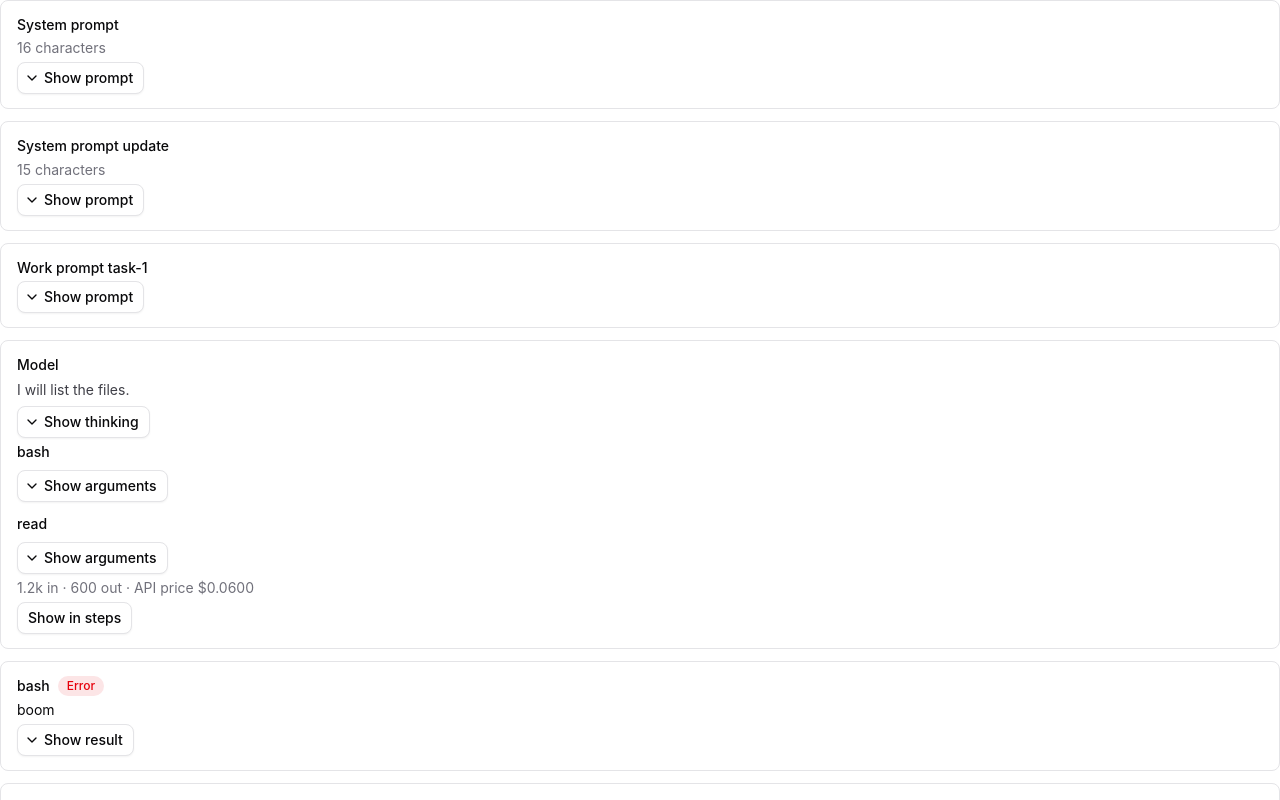
it: Conversation › labels the system prompt and each work prompt and collapses them
The width and height of the screenshot is (1280, 800).
Expected: the text "Work prompt task-1" is shown, 17,258 -> 148,276
Expected: the button "Show prompt" below "16 characters" is shown, 17,62 -> 144,94
Click the button "Show prompt" below "Work prompt task-1".
click(81, 297)  # box 17,281 -> 144,313
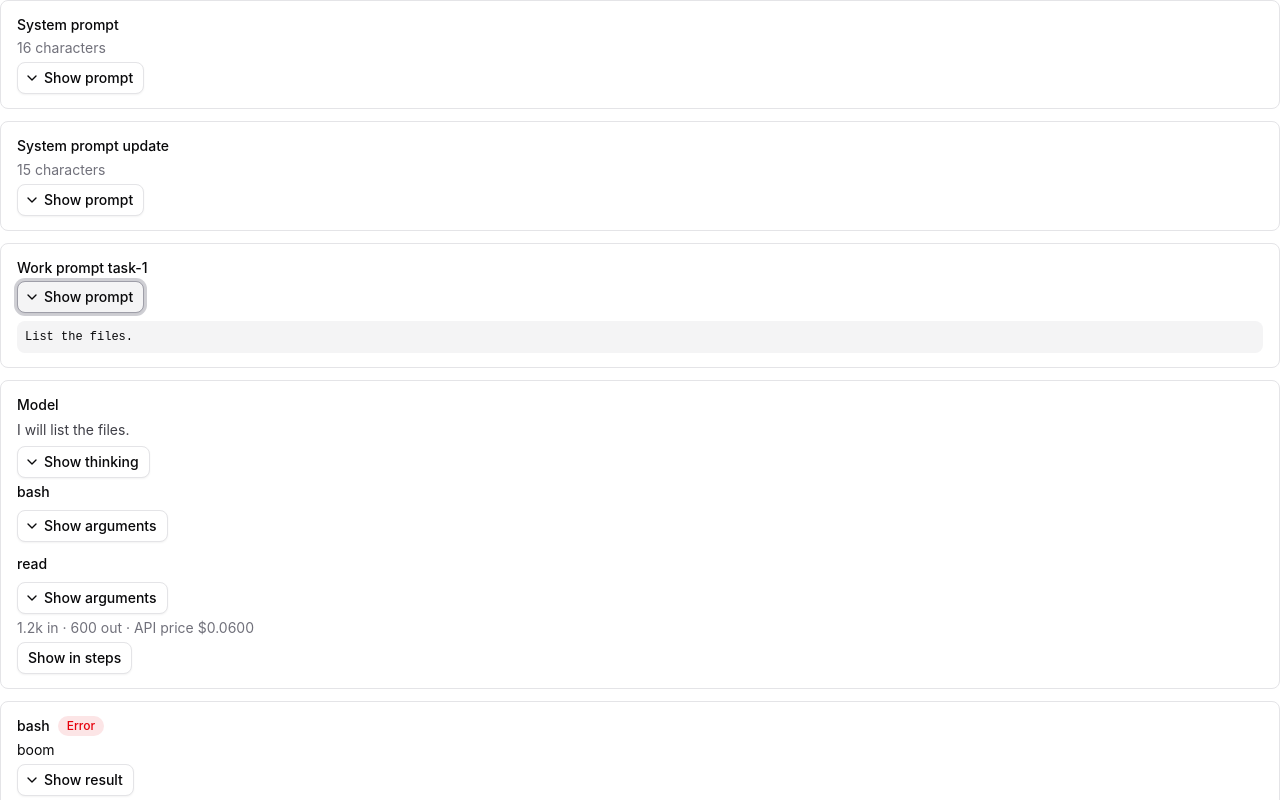
Expected: the text "List the files." is shown, 17,321 -> 1263,353
